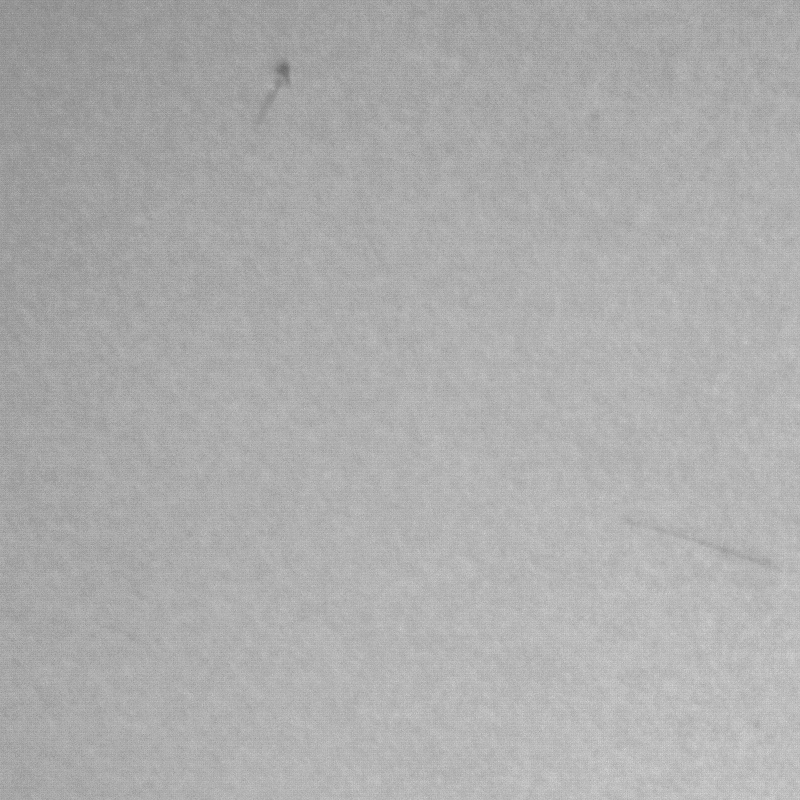defect: (631, 519, 785, 570), (261, 64, 288, 119)
